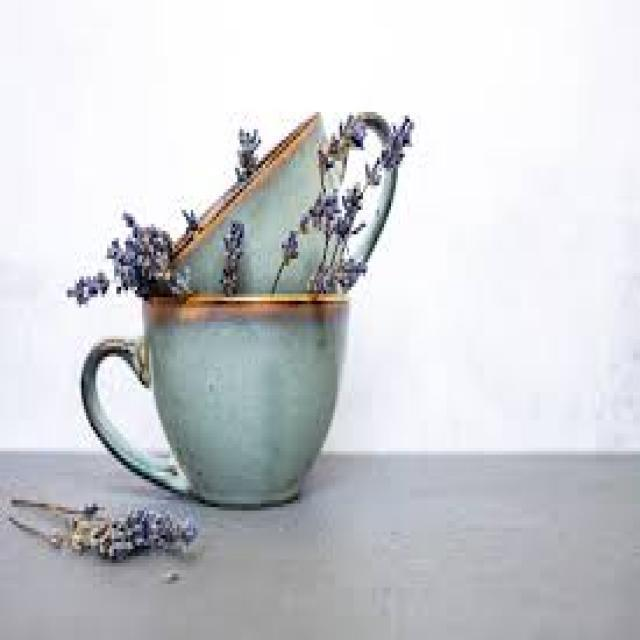taza: (68, 293, 354, 512), (155, 79, 433, 286)
